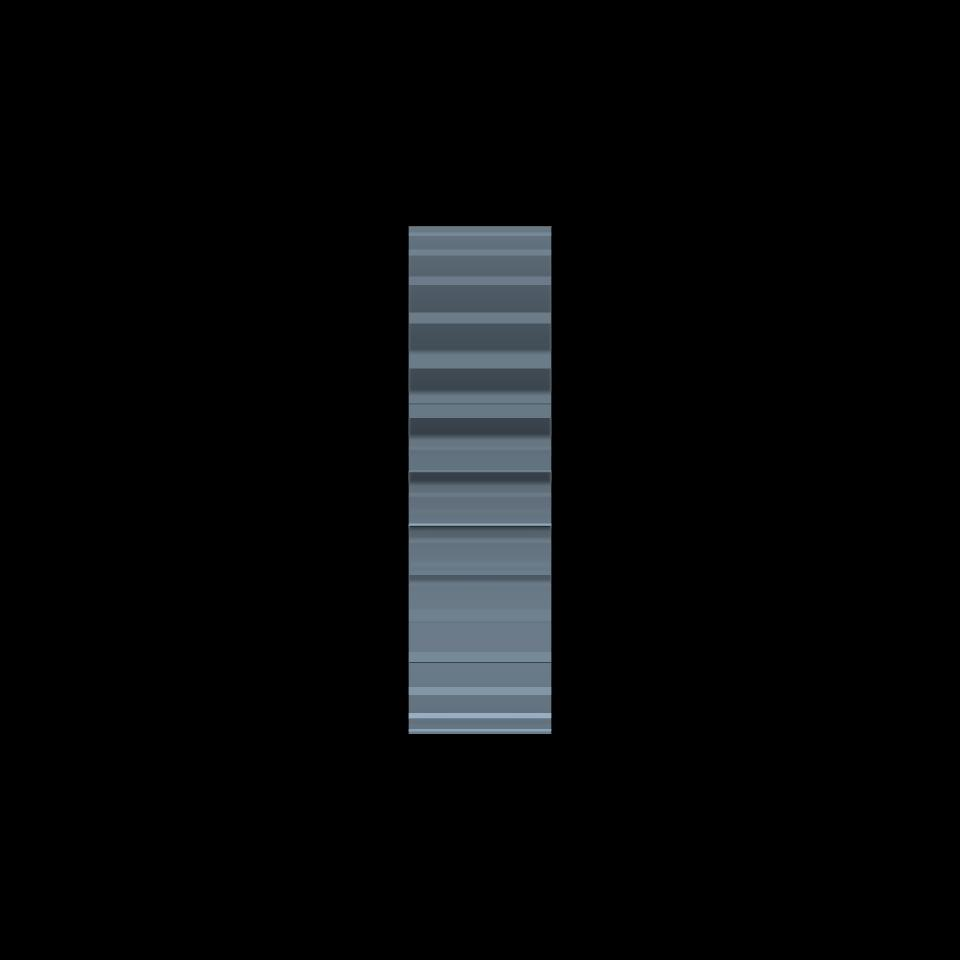Straight: (409, 226, 552, 733)
